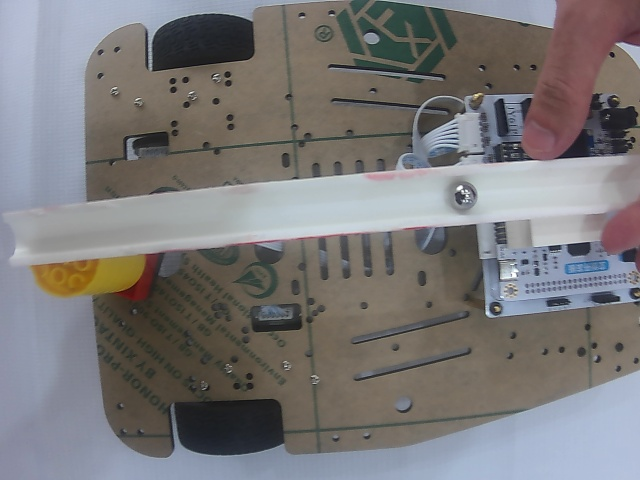steelball: (447, 180, 478, 212)
